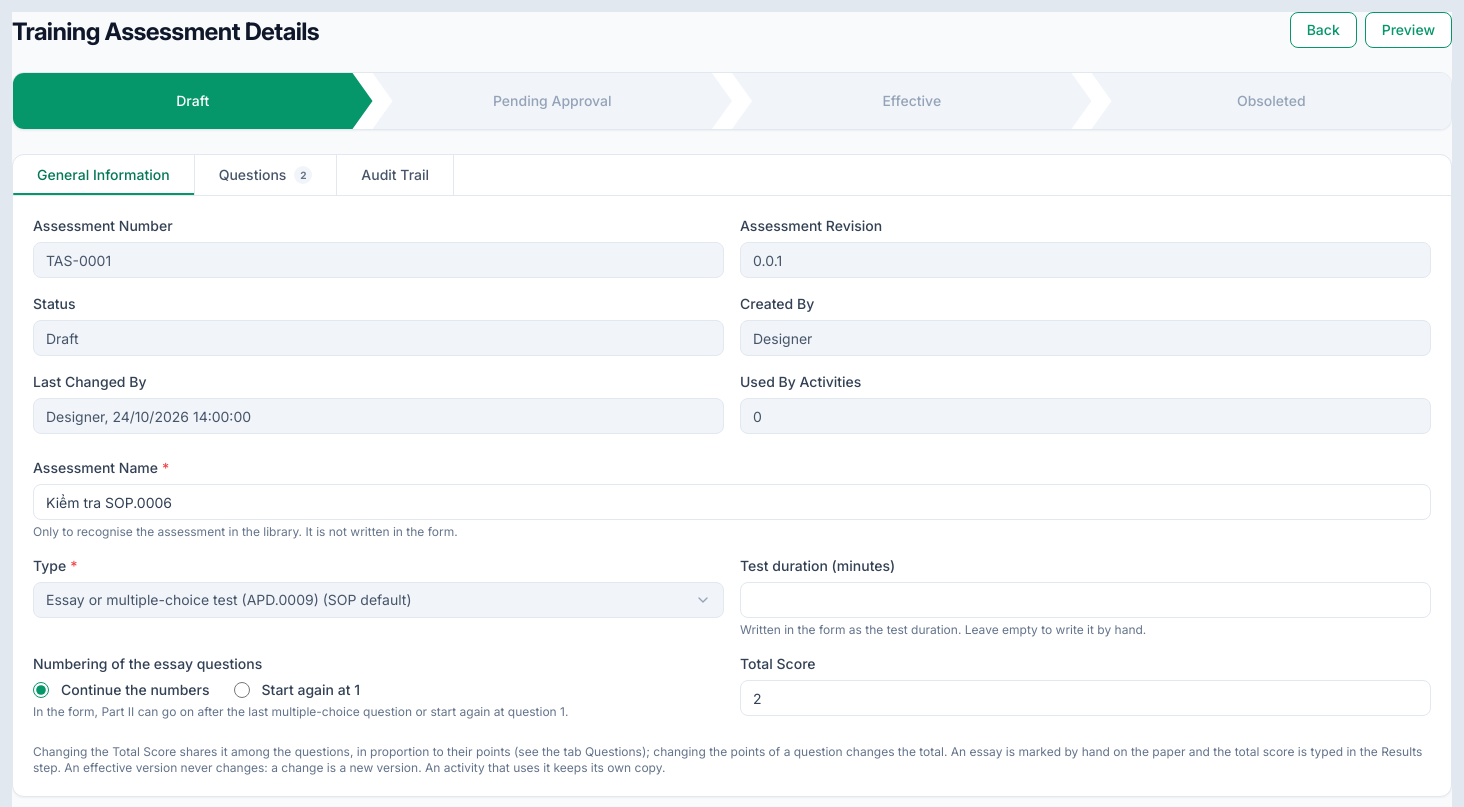
Test: Training Assessment (APD.0009) in the library › the answers of a question are dragged by a grip, the questions too: no arrow buttons
Click the tab "Questions 2".
click(266, 175)  # box [195, 155, 337, 195]
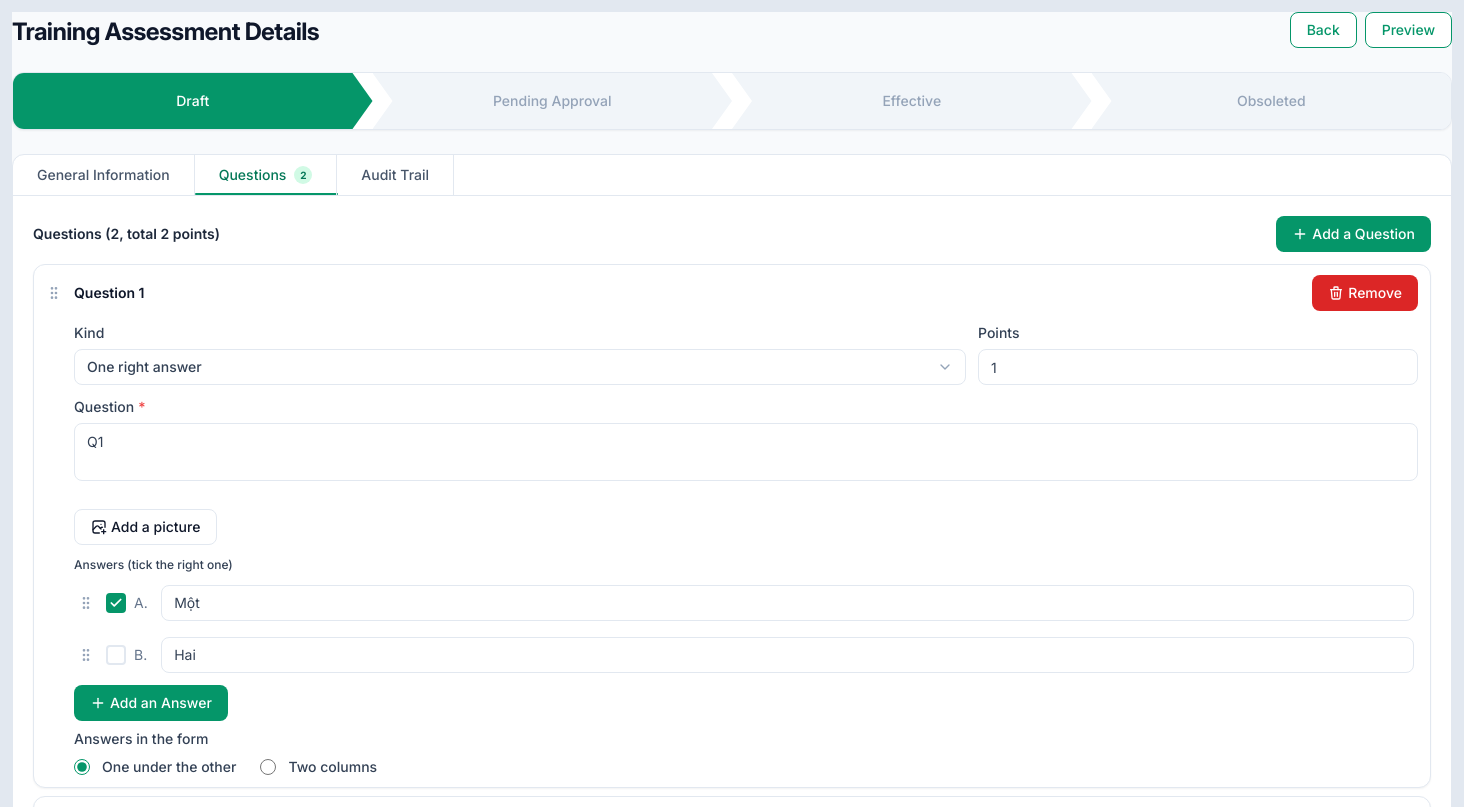
Expected: the element named "Drag Question 1" is shown, [46, 285, 62, 301]
Expected: the element named "Drag answer A" is shown, [78, 595, 94, 611]
Expected: the element named "Drag answer B" is shown, [78, 647, 94, 663]
